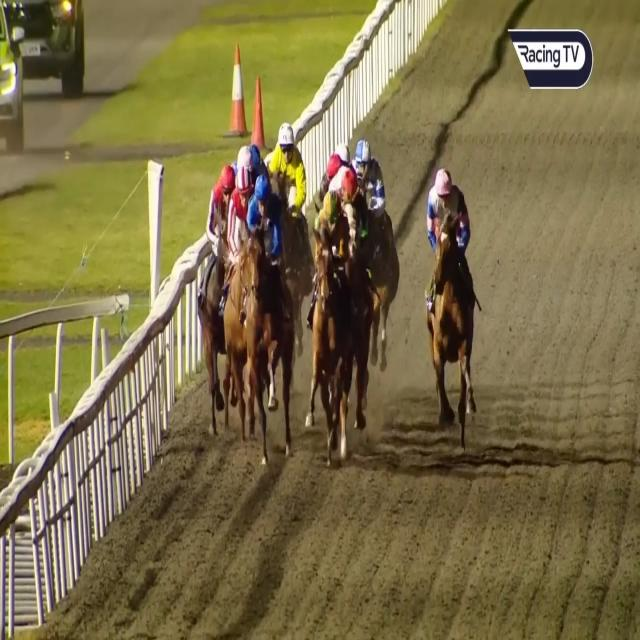horses-racing: (427, 167, 475, 437), (312, 184, 358, 438), (355, 137, 399, 321), (248, 163, 276, 451), (270, 122, 314, 277), (211, 162, 238, 318), (228, 163, 254, 288), (340, 166, 364, 286), (319, 152, 342, 196), (233, 143, 255, 179), (249, 133, 265, 180), (334, 136, 354, 168)
